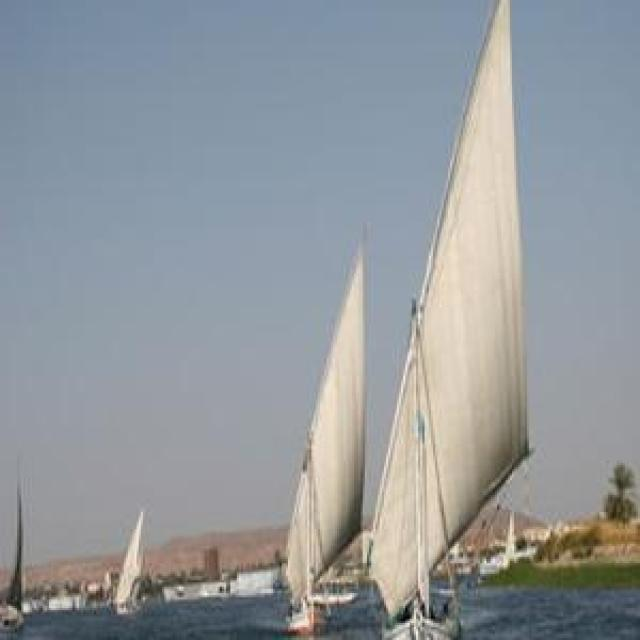sailboat: (377, 24, 549, 640), (262, 253, 389, 634), (0, 474, 62, 628), (94, 490, 153, 630)
